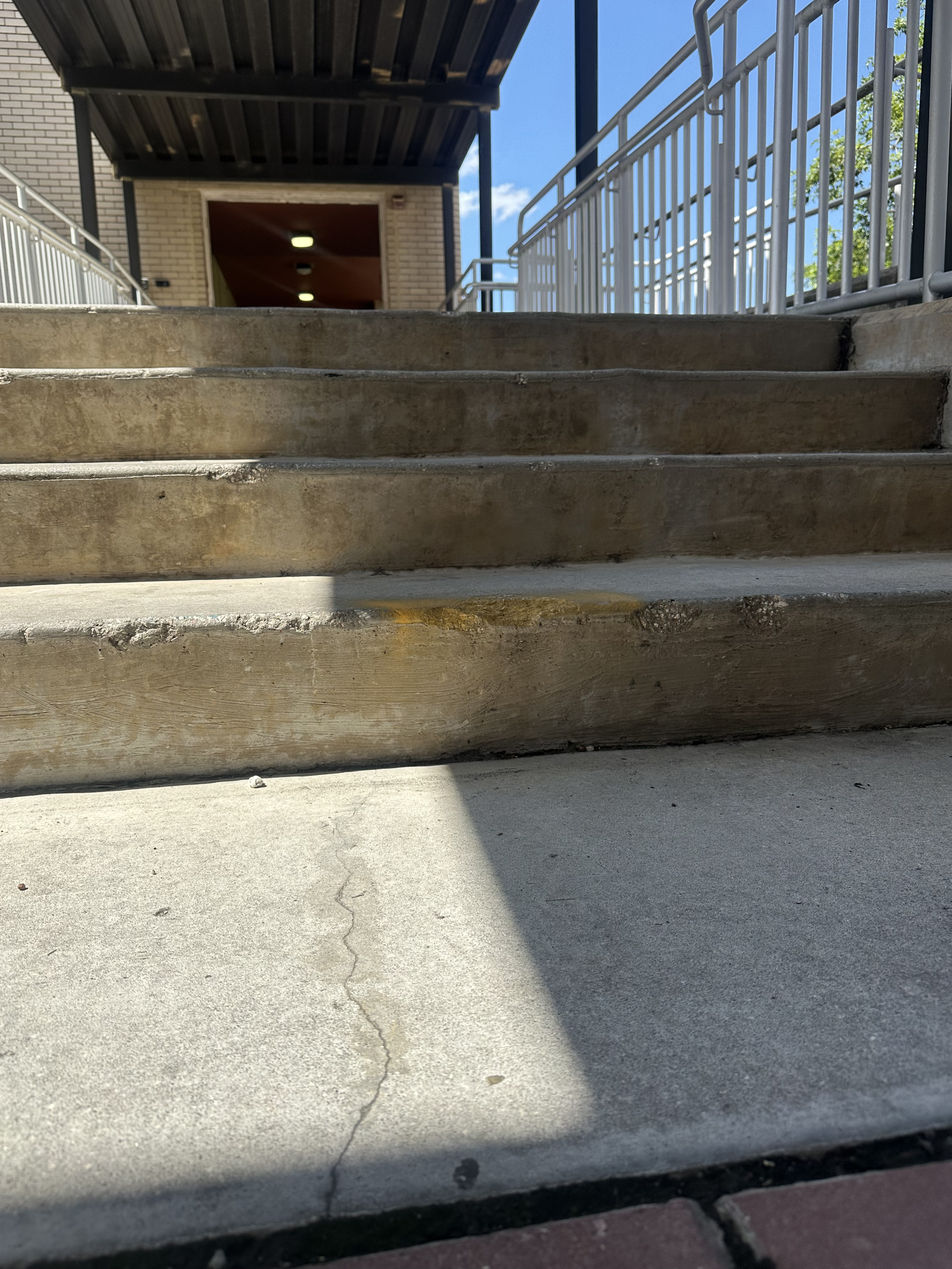stairs: (2, 307, 952, 796)
